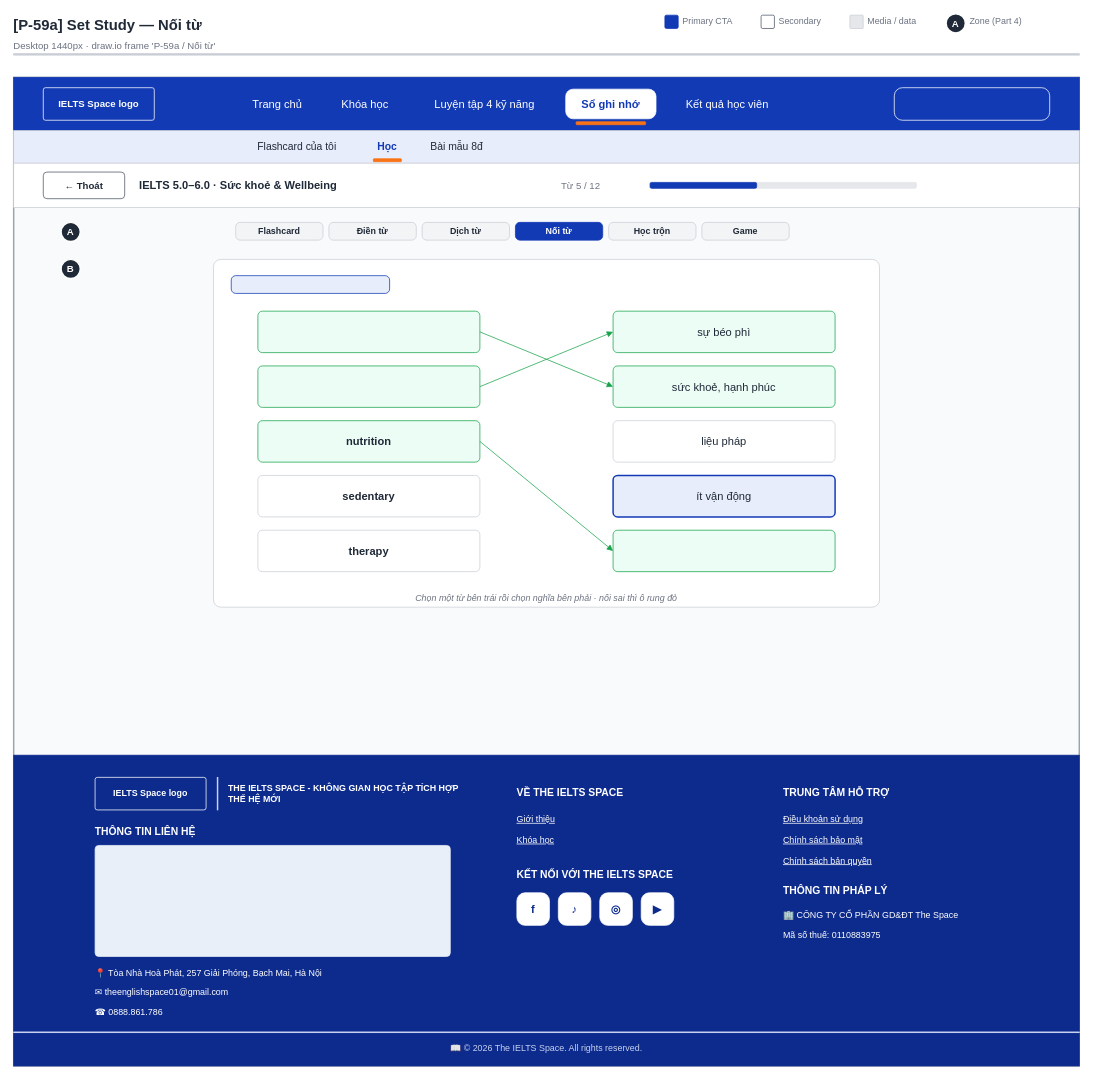
The diagram is 1093 pixels wide and 1079 high, and some of its shapes have lost their labels. Each missing label, with the centre of its shape:
"dinh dưỡng" goes at pixel 723 550.
"Nối từ với nghĩa · 3/5 cặp" goes at pixel 310 284.
"obesity" goes at pixel 368 386.
"wellbeing" goes at pixel 368 331.
"◯ Học viên · 30 Points ▾" goes at pixel 972 103.
"📍 The IELTS Space Mở trong Maps ↗" goes at pixel 272 900.
